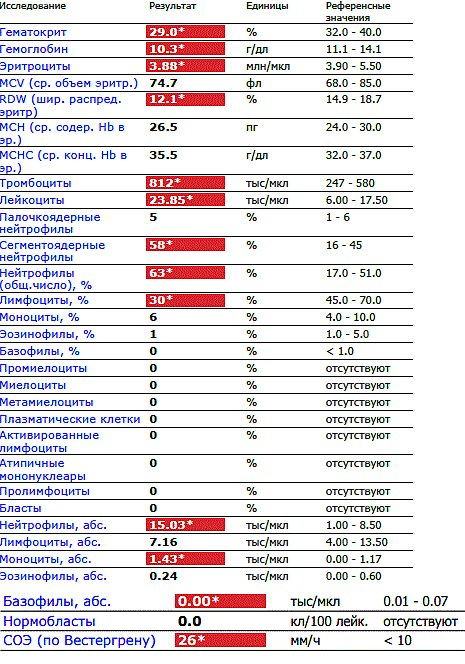column: (0, 0, 140, 584), (324, 0, 391, 584), (147, 0, 197, 584), (244, 0, 291, 584), (2, 592, 156, 650), (288, 592, 369, 650), (381, 592, 460, 650), (176, 592, 220, 650)
